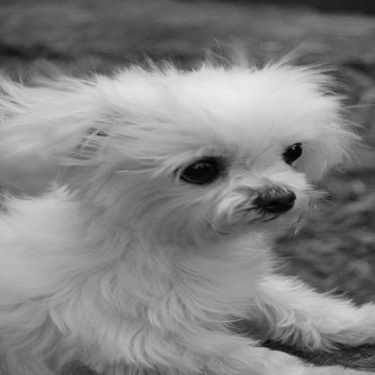dog: (1, 49, 370, 373)
